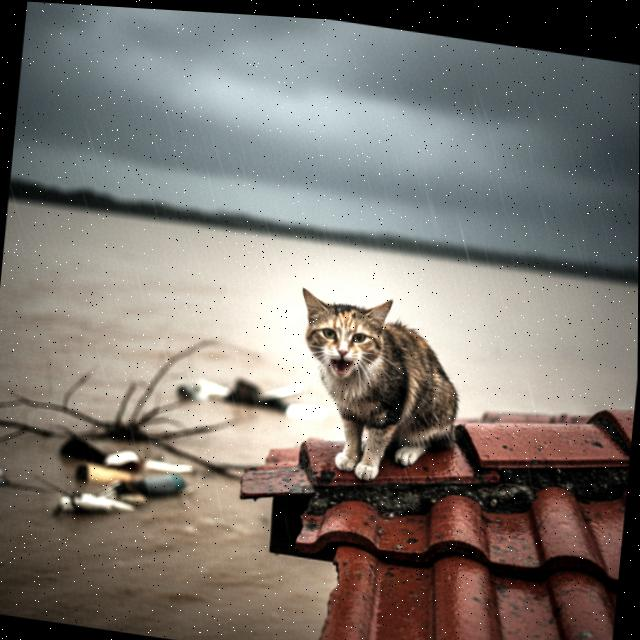cat: (274, 270, 486, 490)
